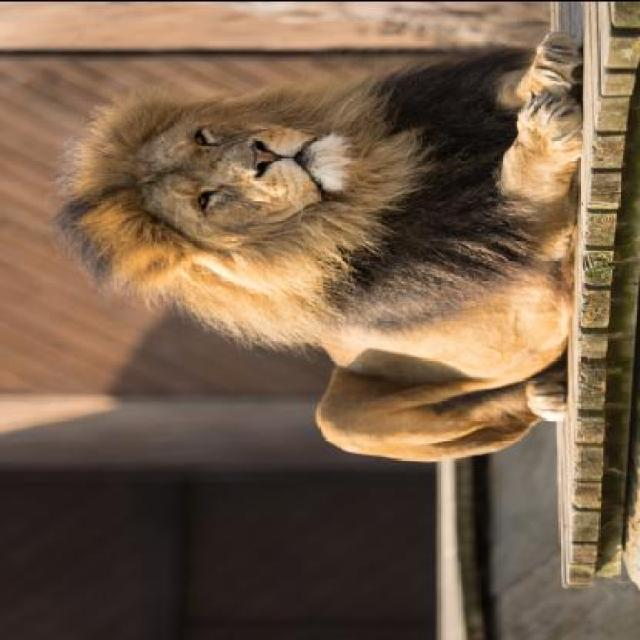Lion: (43, 2, 585, 476)
